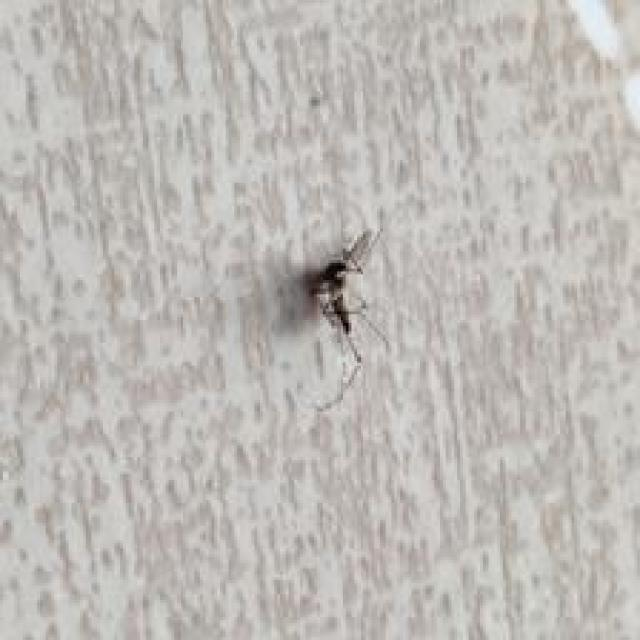Aedes albopictus: (304, 226, 390, 411)
